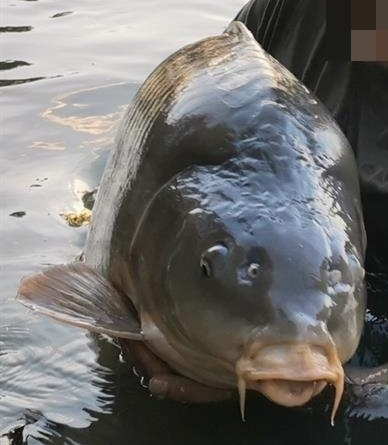Cyprinus carpio: (15, 20, 368, 425)
